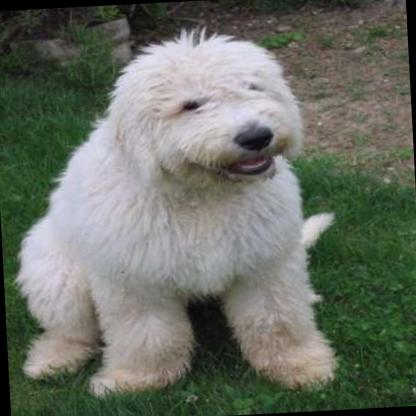komondor: (1, 18, 344, 407)
